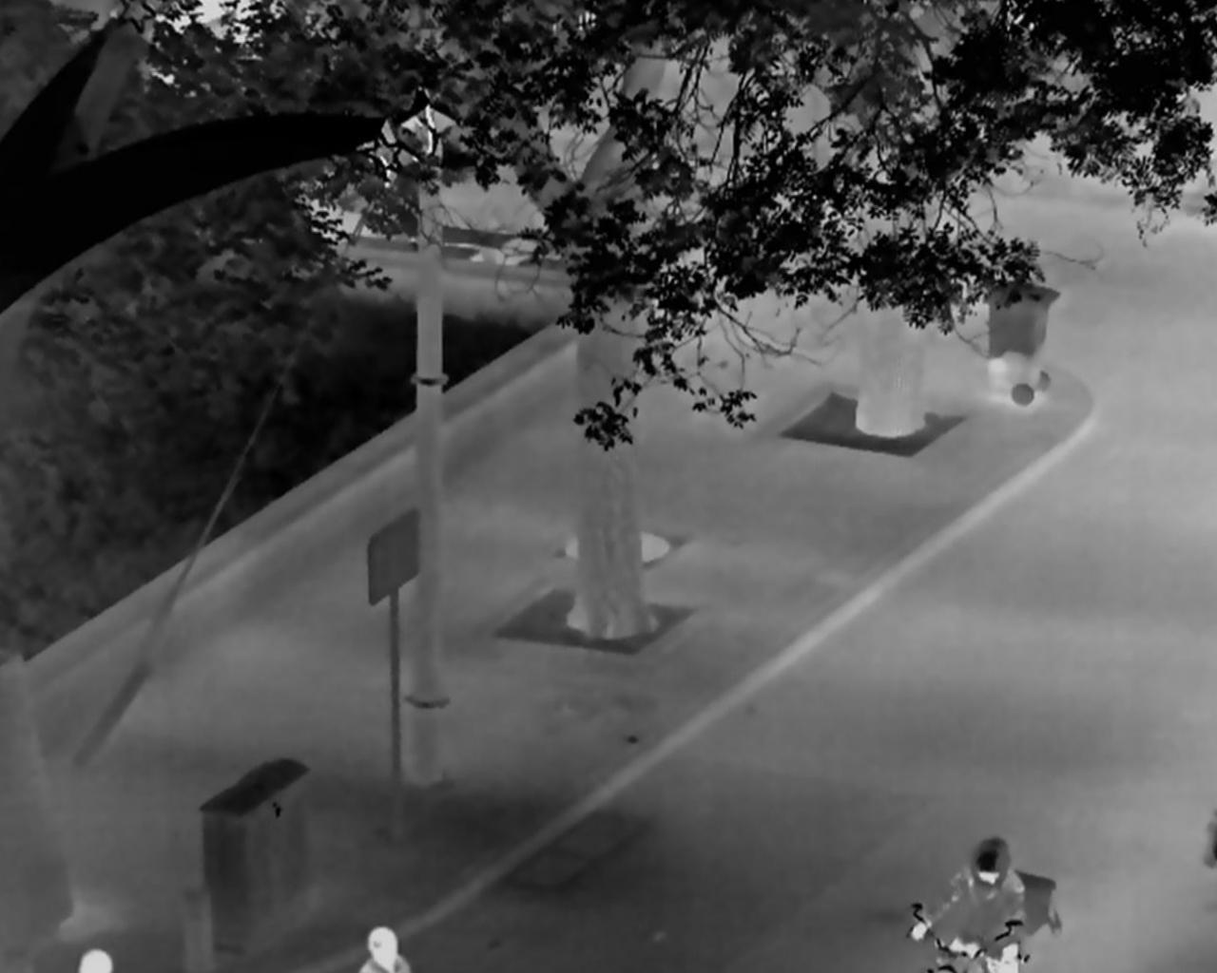person: (905, 836, 1023, 973), (357, 924, 413, 973), (78, 947, 115, 973)
